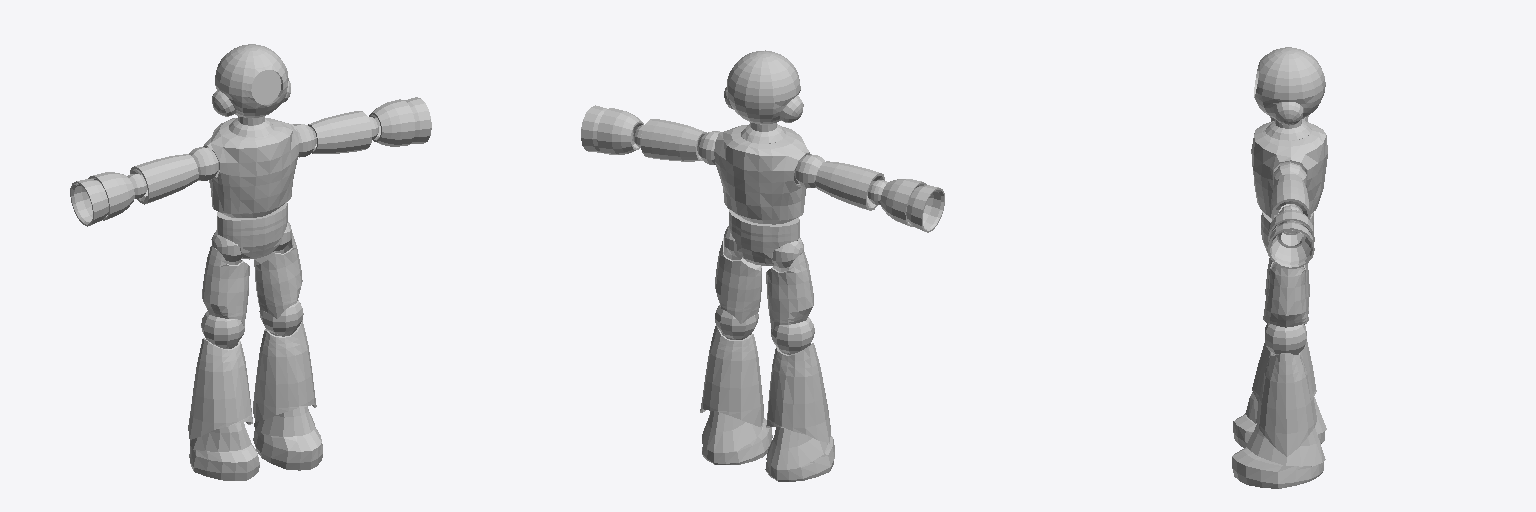
The model's file is Robot.obj.
The picture shows the model from 3 angles: view 1: azimuth 30°, elevation 25°; view 2: azimuth 150°, elevation 25°; view 3: azimuth 270°, elevation 25°; orthographic projection.
Visible parts, largest first — view 1: Robot; view 2: Robot; view 3: Robot.
Boxes of the visible parts, <box> form: Robot: <box>70,44,431,480</box>; Robot: <box>581,50,944,481</box>; Robot: <box>1232,47,1327,488</box>.
Size of the model in its own units: 17.16 by 19.65 by 4.19.